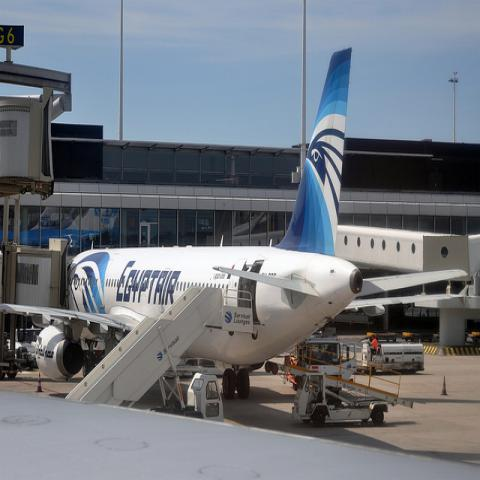truck: (291, 370, 389, 426), (283, 332, 342, 390), (362, 339, 424, 374)
